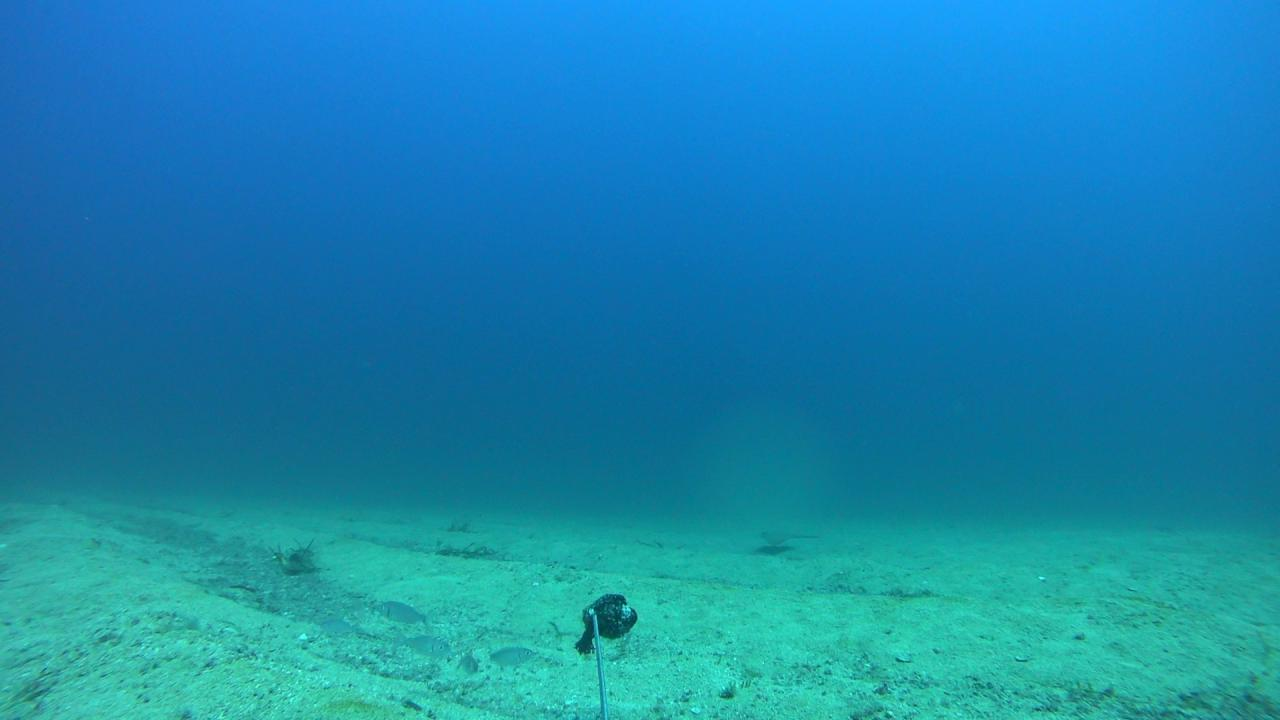dasyatis: (758, 529, 824, 548)
pagellus: (392, 629, 455, 655), (374, 598, 431, 626), (485, 649, 538, 667), (319, 618, 365, 636), (456, 650, 480, 677)
